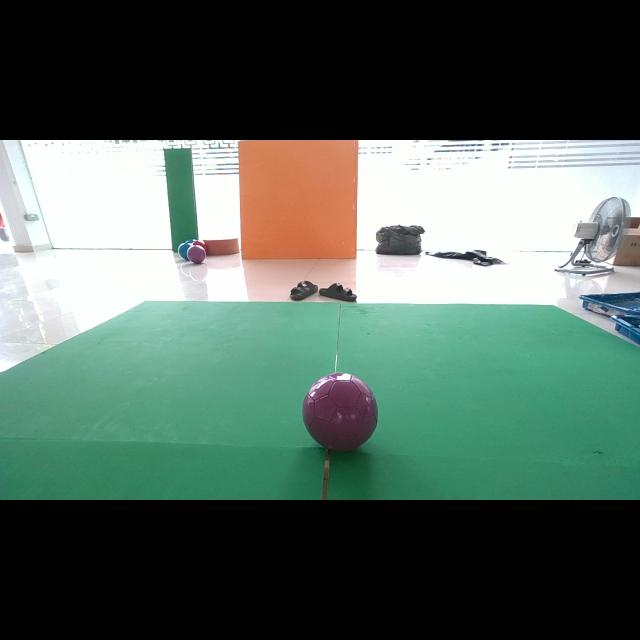P: (302, 372, 378, 451)
